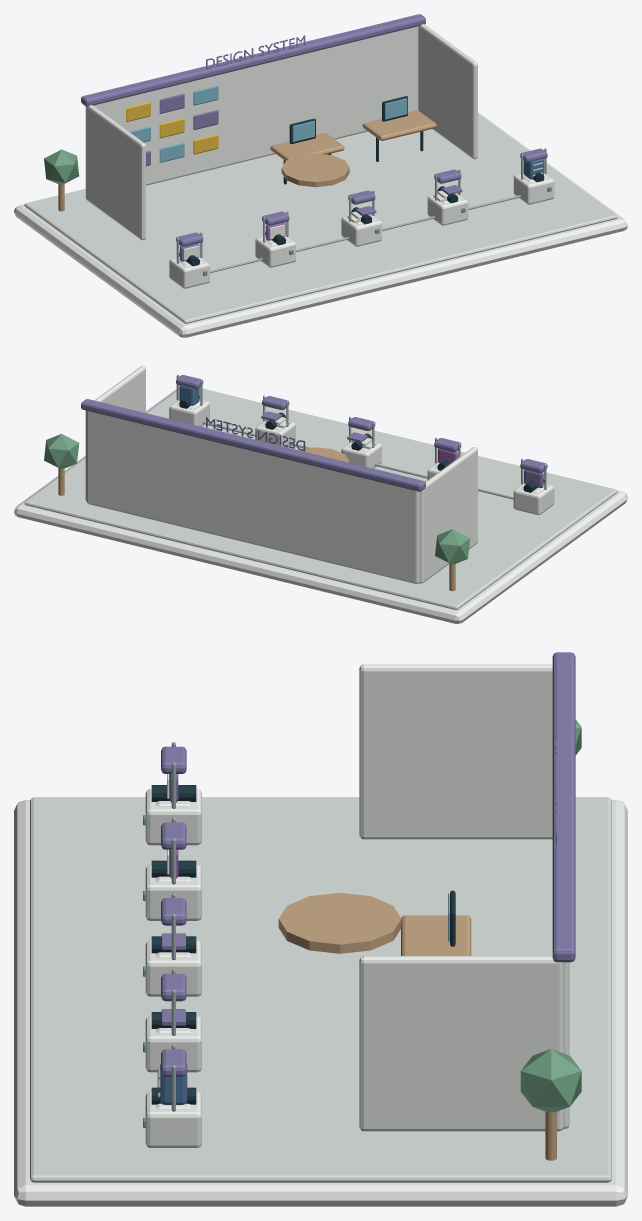
Rendered from charte.glb.
3 renders of one model, top to bottom at view 1: azimuth 30°, elevation 25°; view 2: azimuth 150°, elevation 25°; view 3: azimuth 270°, elevation 25°, orthographic. The views are drawn at different scales.
Visible parts, largest first — view 1: Activity ground, DESIGN SYSTEM back, Project island, DESIGN SYSTEM side, DESIGN SYSTEM side.001, DESIGN SYSTEM fascia, Design meeting, Office desk.001, Office desk, Icosphere, Machine pedestal.004, Machine pedestal.003 (+4 smaller); view 2: DESIGN SYSTEM back, Activity ground, Project island, DESIGN SYSTEM side, DESIGN SYSTEM fascia, DESIGN SYSTEM side.001, Icosphere, Icosphere.001, Machine pedestal, Machine pedestal.004, Machine pedestal.002, Machine pedestal.003 (+2 smaller); view 3: Activity ground, DESIGN SYSTEM side, DESIGN SYSTEM side.001, Project island, DESIGN SYSTEM fascia, Design meeting, Icosphere.001, Office desk, Machine pedestal.004, Machine pedestal, Machine pedestal.001, Machine pedestal.002 (+1 smaller).
Boxes of the visible parts, x1=… form: Activity ground: x1=24, y1=114, x2=617, y2=323; DESIGN SYSTEM back: x1=93, y1=26, x2=418, y2=185; Project island: x1=14, y1=112, x2=627, y2=337; DESIGN SYSTEM side: x1=85, y1=105, x2=145, y2=240; DESIGN SYSTEM side.001: x1=418, y1=24, x2=477, y2=159; DESIGN SYSTEM fascia: x1=81, y1=14, x2=425, y2=106; Design meeting: x1=281, y1=153, x2=349, y2=187; Office desk.001: x1=362, y1=110, x2=436, y2=140; Office desk: x1=270, y1=133, x2=344, y2=160; Icosphere: x1=44, y1=149, x2=79, y2=184; Machine pedestal.004: x1=513, y1=173, x2=554, y2=204; Machine pedestal.003: x1=427, y1=194, x2=468, y2=225; DESIGN SYSTEM back: x1=87, y1=411, x2=419, y2=583; Activity ground: x1=24, y1=388, x2=617, y2=609; Project island: x1=14, y1=387, x2=627, y2=623; DESIGN SYSTEM side: x1=419, y1=447, x2=477, y2=583; DESIGN SYSTEM fascia: x1=81, y1=399, x2=425, y2=491; DESIGN SYSTEM side.001: x1=85, y1=366, x2=145, y2=501; Icosphere: x1=435, y1=529, x2=470, y2=564; Icosphere.001: x1=44, y1=433, x2=79, y2=468; Machine pedestal: x1=513, y1=483, x2=554, y2=514; Machine pedestal.004: x1=169, y1=399, x2=209, y2=426; Machine pedestal.002: x1=341, y1=441, x2=381, y2=468; Machine pedestal.003: x1=255, y1=420, x2=295, y2=447; Activity ground: x1=30, y1=797, x2=611, y2=1182; DESIGN SYSTEM side: x1=359, y1=664, x2=552, y2=839; DESIGN SYSTEM side.001: x1=359, y1=956, x2=563, y2=1131; Project island: x1=14, y1=800, x2=627, y2=1206; DESIGN SYSTEM fascia: x1=552, y1=652, x2=575, y2=962; Design meeting: x1=278, y1=892, x2=401, y2=953; Icosphere.001: x1=520, y1=1049, x2=581, y2=1112; Office desk: x1=401, y1=915, x2=471, y2=955; Machine pedestal.004: x1=145, y1=1091, x2=201, y2=1147; Machine pedestal: x1=145, y1=789, x2=201, y2=845; Machine pedestal.001: x1=145, y1=864, x2=201, y2=920; Machine pedestal.002: x1=145, y1=940, x2=201, y2=996.
Size of the model in its own units: 7.3 by 2.01 by 4.8.
